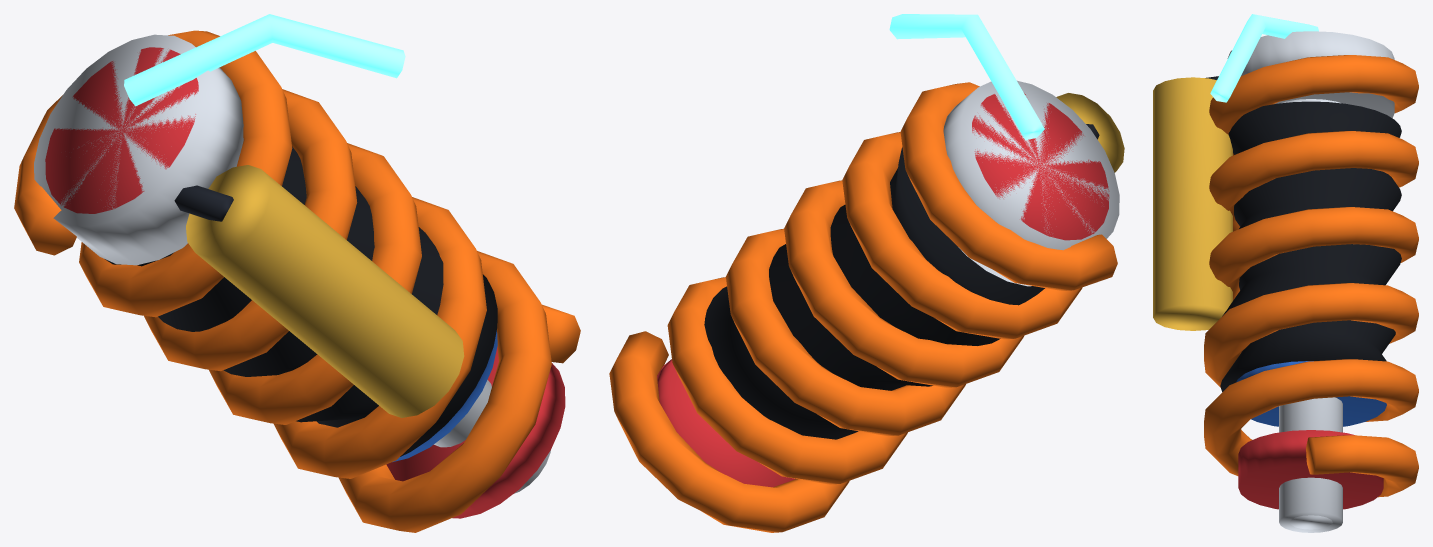
Rendered from parts_suspension.glb.
3 views of the same model, side by side, from view 1: azimuth 30°, elevation 25°; view 2: azimuth 150°, elevation 25°; view 3: azimuth 270°, elevation 25° (orthographic). The views are drawn at different scales.
Parts seen in each view (by area): view 1: OffroadCoil, OffroadReservoir, AirCap, OffroadCap, AirBellow, AirLine, OffroadSeat, OffroadHose, OffroadBody, AirBase; view 2: OffroadCoil, AirBellow, AirCap, OffroadCap, AirLine, OffroadSeat, OffroadReservoir; view 3: OffroadCoil, AirBellow, OffroadReservoir, OffroadSeat, OffroadBody, AirCap, AirLine, AirBase, AirRod.
Boxes of the visible parts, x1,y1,x2,y2 form: OffroadCoil: (14, 30, 580, 532); OffroadReservoir: (186, 165, 464, 417); AirCap: (34, 34, 243, 265); OffroadCap: (45, 47, 198, 213); AirBellow: (105, 146, 497, 456); AirLine: (124, 14, 405, 106); OffroadSeat: (386, 346, 565, 518); OffroadHose: (174, 185, 233, 221); OffroadBody: (434, 380, 550, 493); AirBase: (392, 330, 497, 462); OffroadCoil: (609, 82, 1117, 532); AirBellow: (704, 147, 1044, 439); AirCap: (943, 80, 1119, 286); OffroadCap: (972, 93, 1109, 240); AirLine: (889, 14, 1044, 140); OffroadSeat: (657, 359, 795, 487); OffroadReservoir: (1056, 93, 1124, 172); OffroadCoil: (1204, 55, 1418, 497); AirBellow: (1220, 101, 1401, 391); OffroadReservoir: (1153, 77, 1232, 330); OffroadSeat: (1238, 430, 1383, 509); OffroadBody: (1279, 99, 1342, 532); AirCap: (1227, 31, 1394, 118); AirLine: (1210, 14, 1318, 102); AirBase: (1236, 361, 1386, 426); AirRod: (1289, 515, 1332, 529).
Size of the model in its own units: 0.2631 by 0.2599 by 0.1463.
